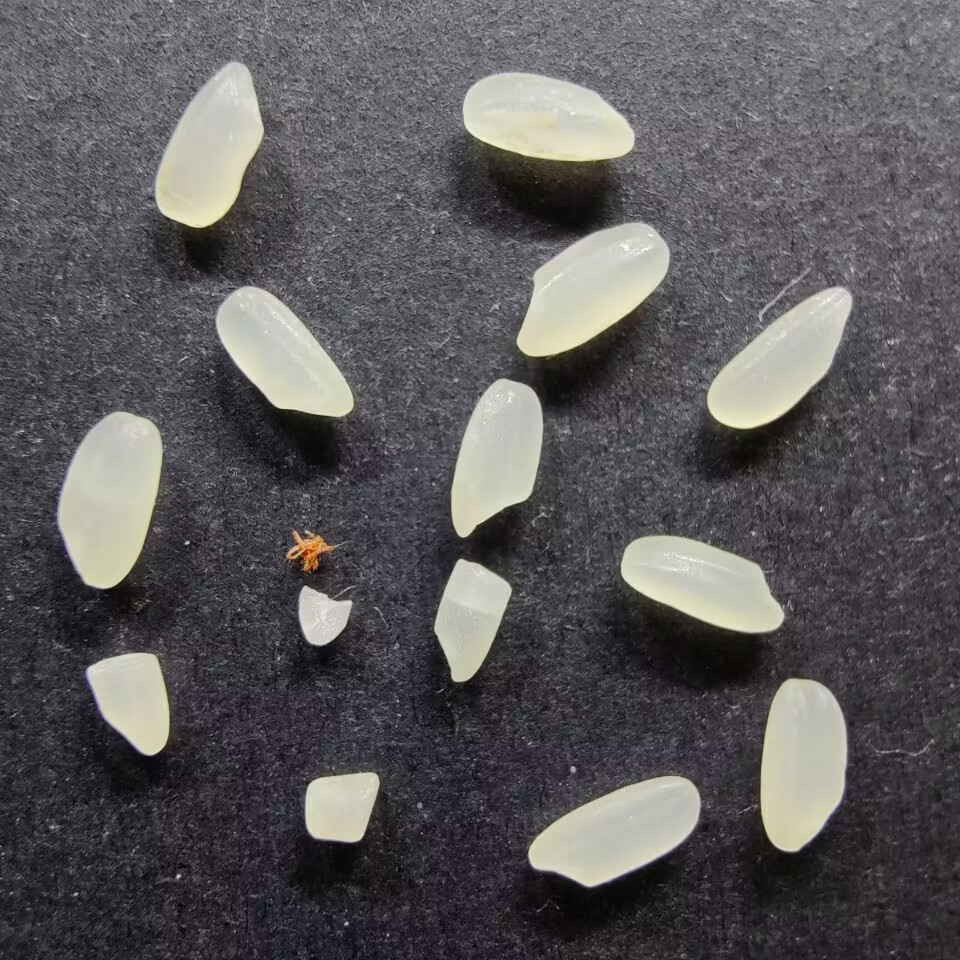broken: (432, 555, 513, 686), (84, 652, 170, 755), (302, 769, 381, 844)
rice: (705, 284, 856, 430), (515, 221, 671, 357), (526, 774, 701, 889), (56, 408, 163, 592), (154, 58, 265, 230), (215, 285, 354, 419), (619, 534, 786, 633), (461, 70, 637, 162), (447, 376, 546, 539), (759, 678, 848, 852), (295, 582, 353, 649)
